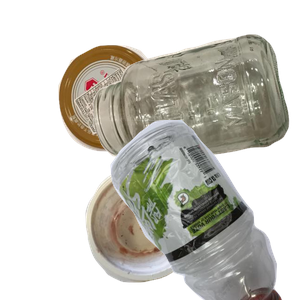glass: (91, 32, 300, 189)
metal: (56, 43, 211, 187)
plastic: (73, 120, 300, 300)
trash: (83, 163, 276, 300)
